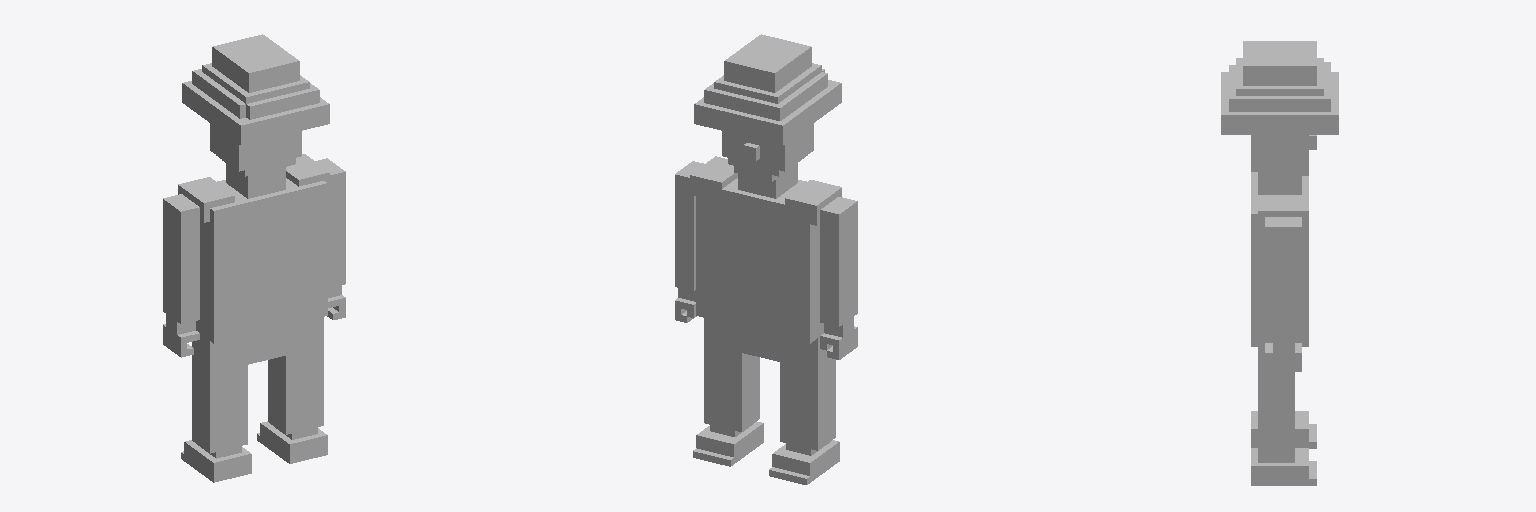
File: seller.obj
3 renders of one model, left to right at view 1: azimuth 30°, elevation 25°; view 2: azimuth 150°, elevation 25°; view 3: azimuth 270°, elevation 25°, orthographic.
Parts seen in each view (by area): view 1: object 1; view 2: object 1; view 3: object 1.
Part boxes in pixels (x1,y1,x2,y2): object 1: (163, 34, 345, 482); object 1: (675, 34, 857, 484); object 1: (1221, 41, 1338, 485).
Bounding box in the file's own units: 2.6 × 6.1 × 1.6.